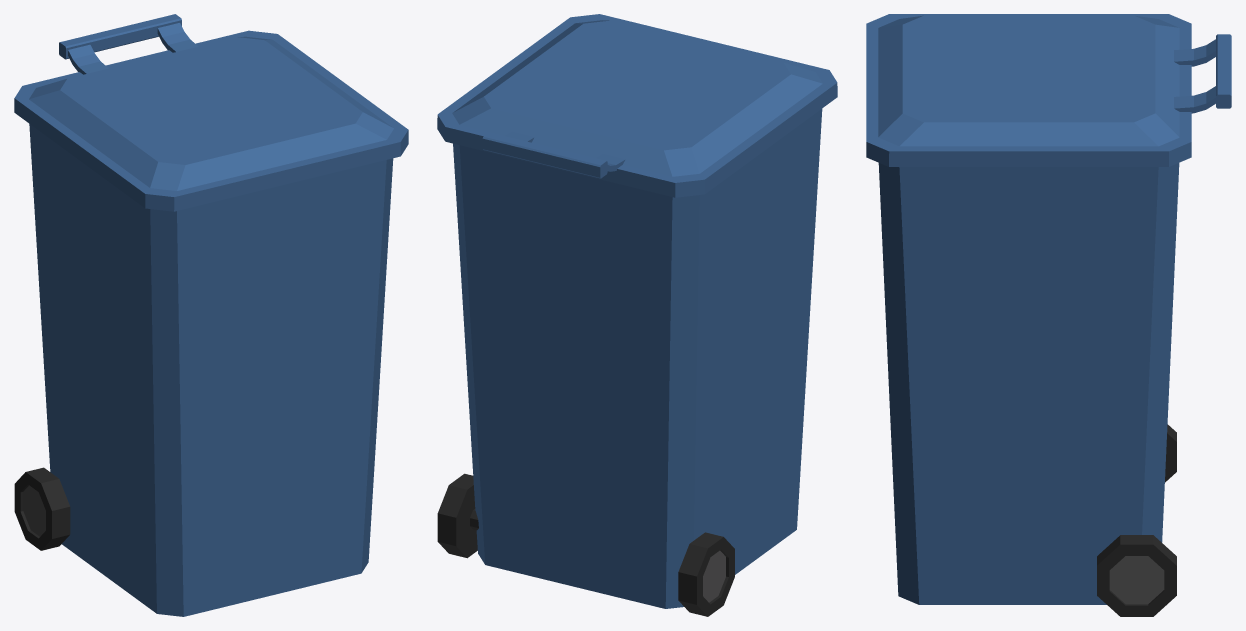
The model's file is SM_Props_Trash_06.glb.
3 views of the same model, side by side, from view 1: azimuth 30°, elevation 25°; view 2: azimuth 150°, elevation 25°; view 3: azimuth 270°, elevation 25° (orthographic). The views are drawn at different scales.
Parts seen in each view (by area): view 1: SM_Props_Trash_06; view 2: SM_Props_Trash_06; view 3: SM_Props_Trash_06.
Part boxes in pixels (<box>): SM_Props_Trash_06: <box>14,14,408,616</box>; SM_Props_Trash_06: <box>437,14,837,616</box>; SM_Props_Trash_06: <box>866,14,1231,616</box>.
Size of the model in its own units: 0.7173 by 1.18 by 0.8053.
Materials: 1 (1 with a texture image).
